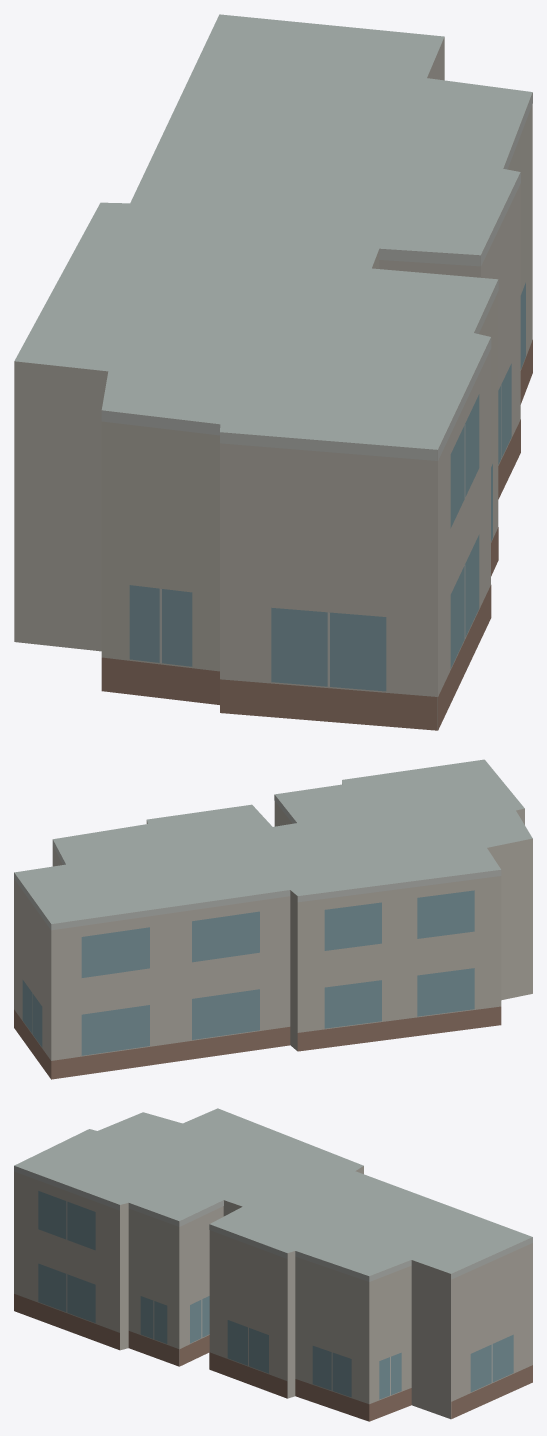
Rendered from survey-upis-32594371.glb.
The picture shows the model from 3 angles, top to bottom: view 1: azimuth 30°, elevation 25°; view 2: azimuth 150°, elevation 25°; view 3: azimuth 270°, elevation 25°; orthographic projection. The views are drawn at different scales.
Parts seen in each view (by area): view 1: survey-upis-32594371.tmp; view 2: survey-upis-32594371.tmp; view 3: survey-upis-32594371.tmp.
Part boxes in pixels (<box>): survey-upis-32594371.tmp: <box>14,14,532,730</box>; survey-upis-32594371.tmp: <box>14,759,532,1079</box>; survey-upis-32594371.tmp: <box>14,1108,532,1421</box>.
Size of the model in its own units: 15.12 by 6.1 by 19.73.
